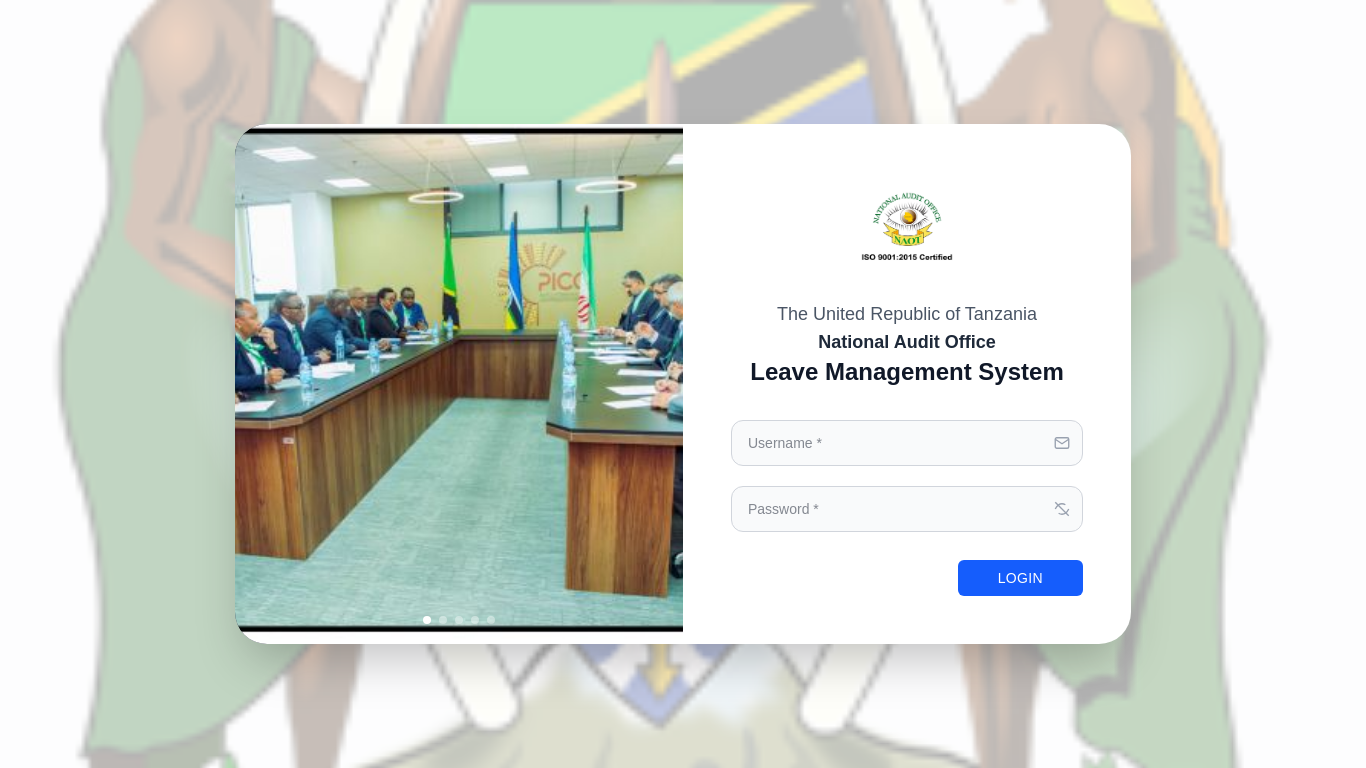
Test: LoginPage › shows an error and stays on the MFA step for an incorrect code
In the field labelled "Username": (907, 443) top-left (731, 420), bottom-right (1083, 466), type "sysadmin1"
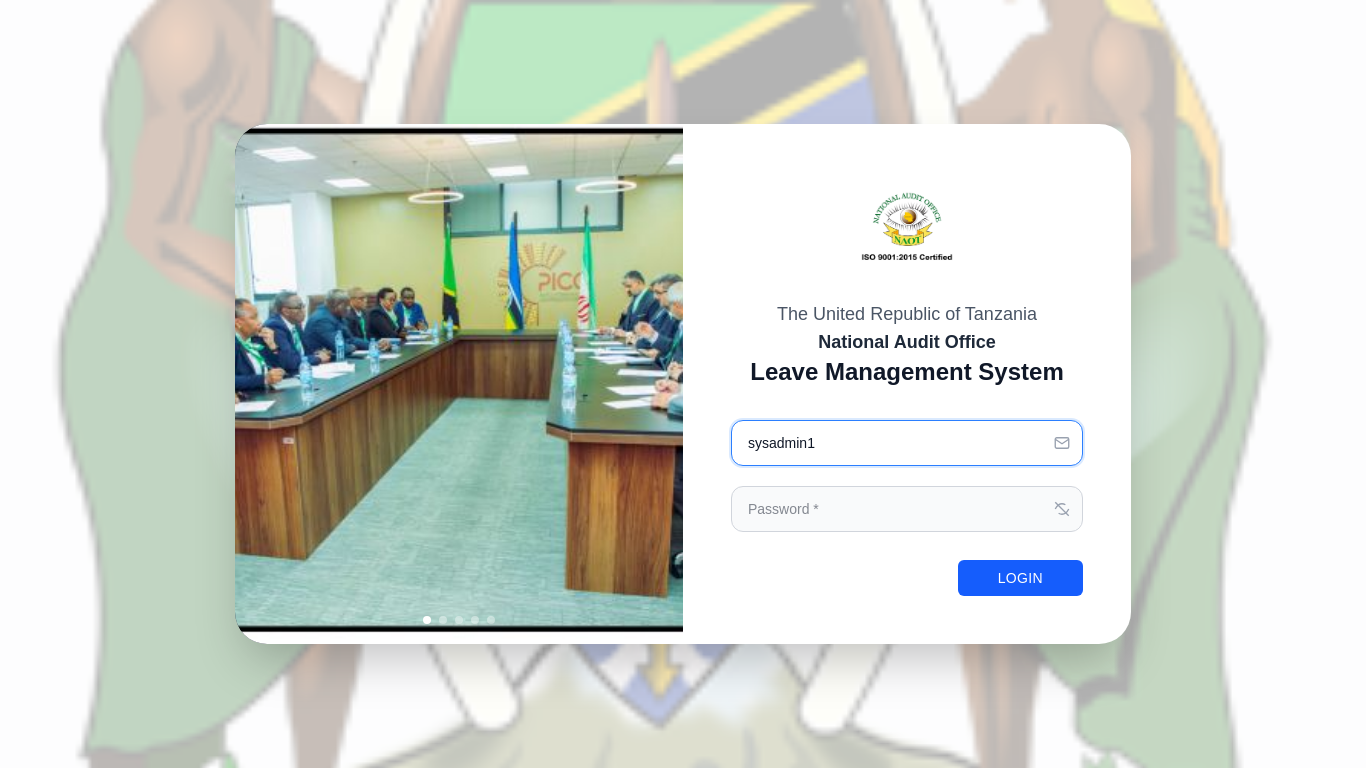
In the password field labelled "Password": (907, 509) top-left (731, 486), bottom-right (1083, 532), type "TestPass123!"
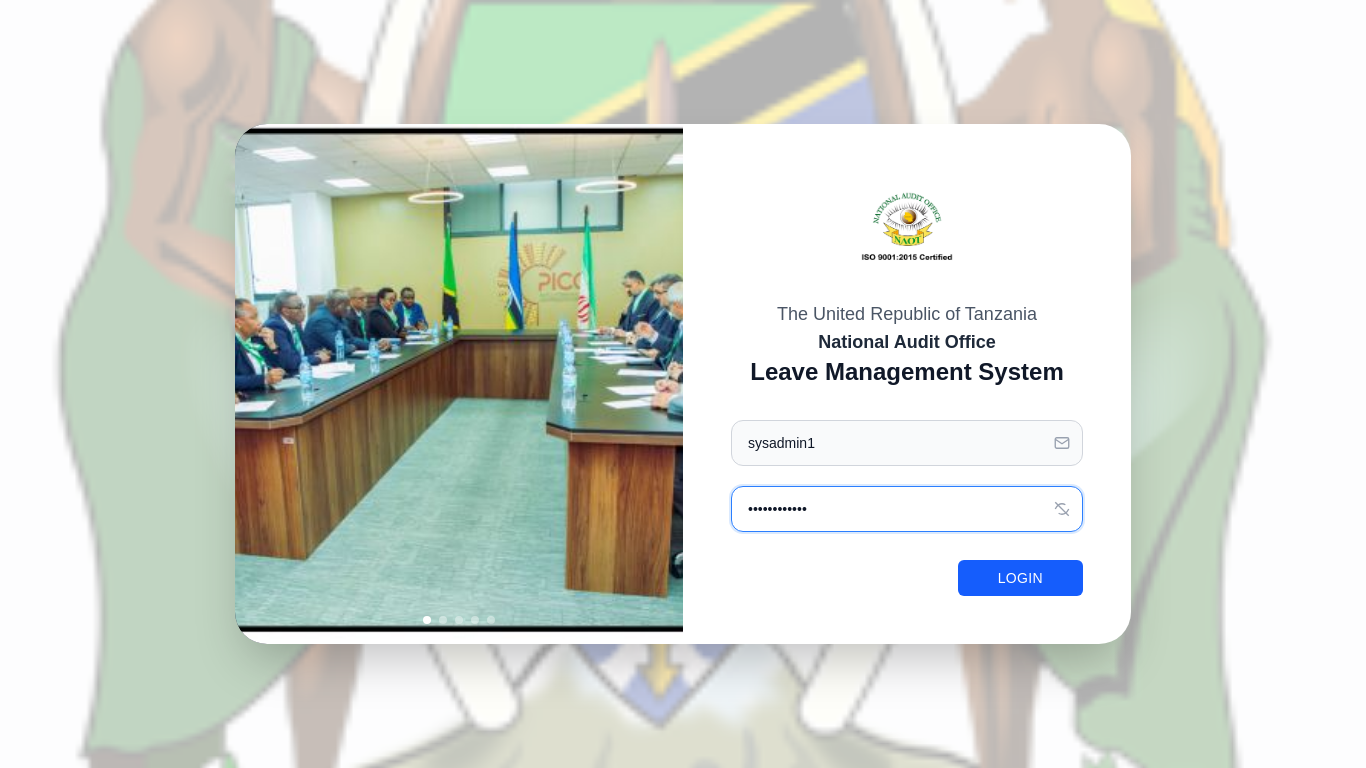
Click the button "LOGIN": click(1020, 578) top-left (958, 560), bottom-right (1083, 596)
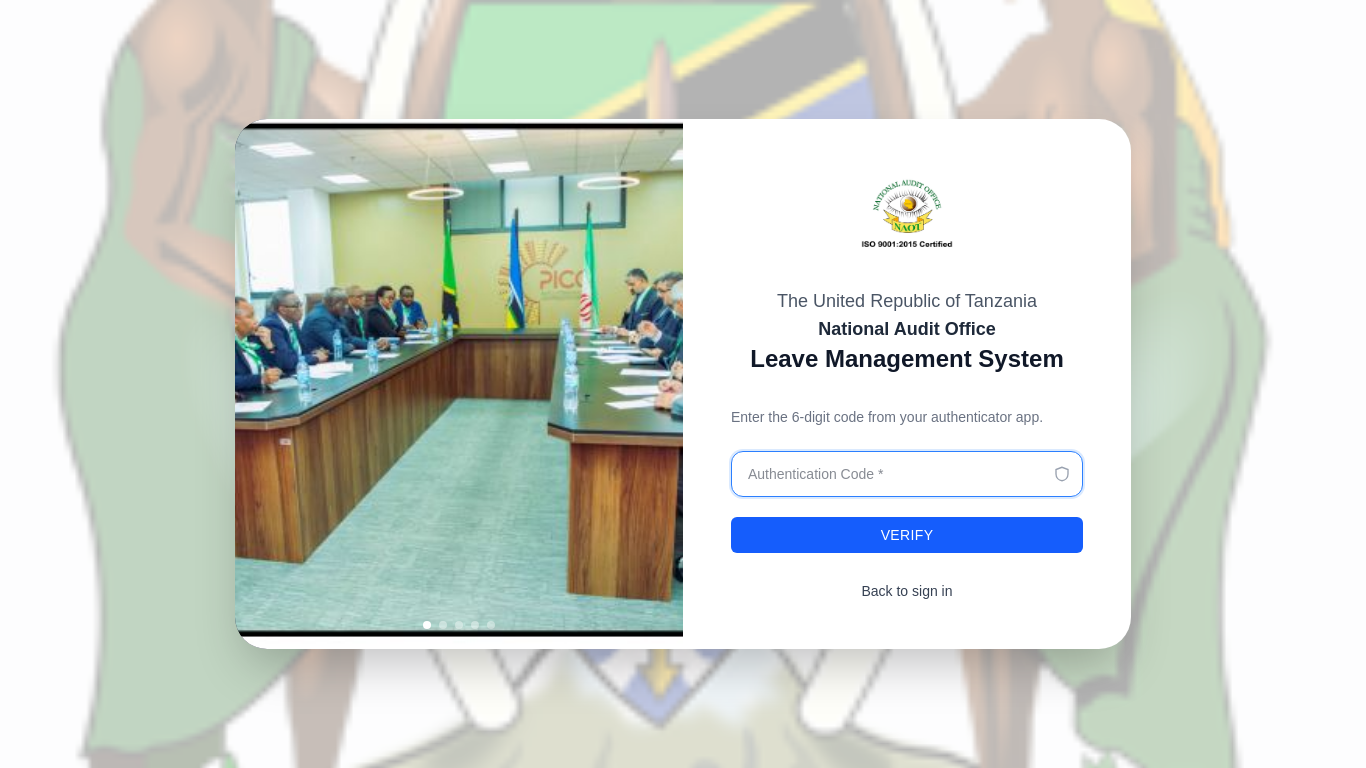
Expected: the field labelled "Authentication Code" is shown
In the field labelled "Authentication Code": (907, 474) top-left (731, 451), bottom-right (1083, 497), type "000000"
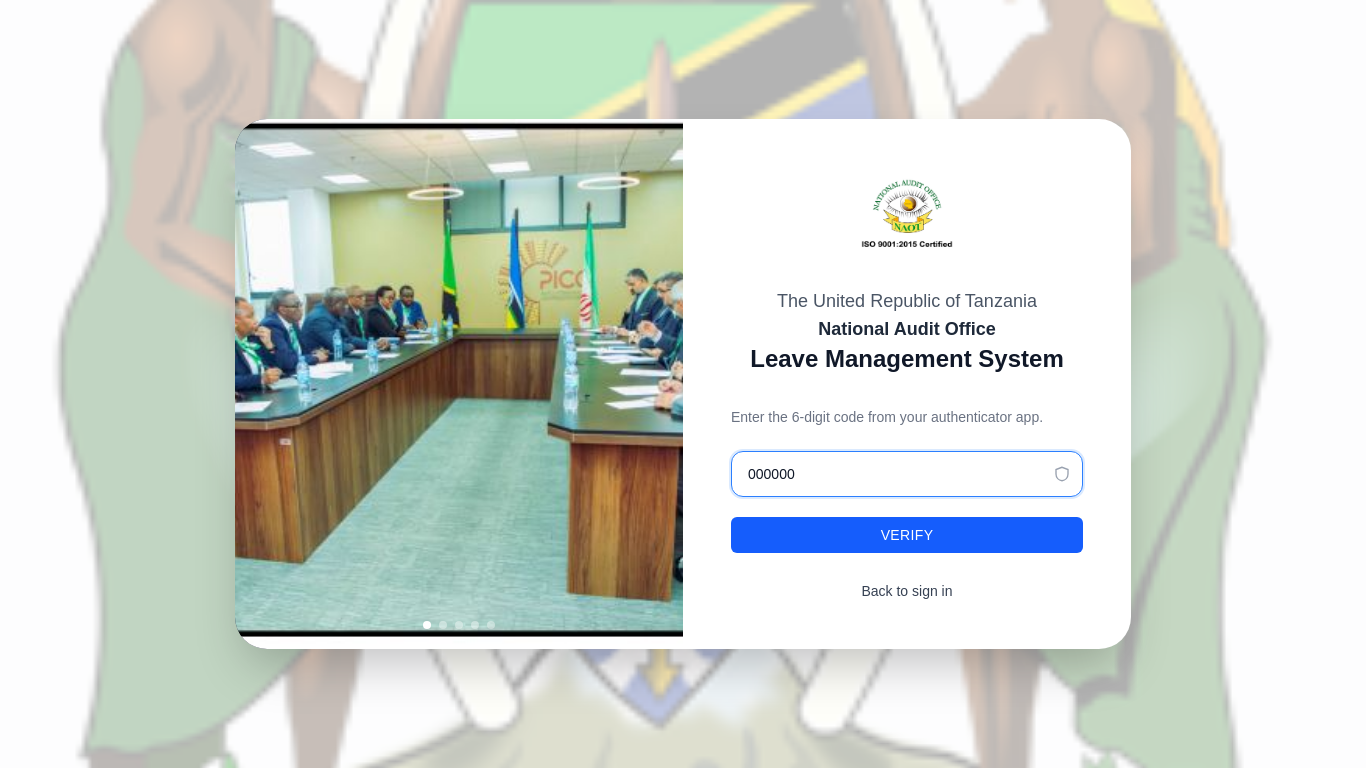
Click the button "VERIFY": click(907, 535) top-left (731, 517), bottom-right (1083, 553)
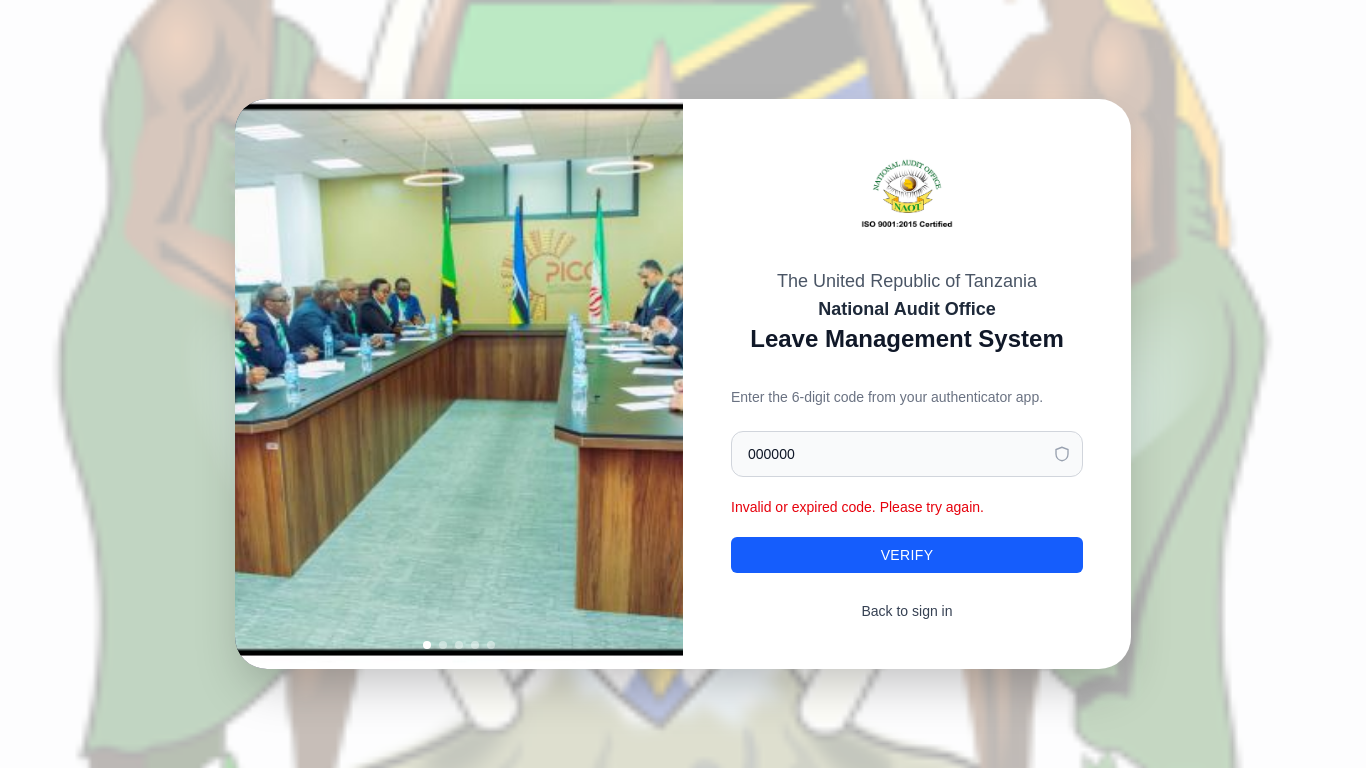
Expected: the text "Invalid or expired code. Please try again." is shown, top-left (731, 499), bottom-right (984, 515)
